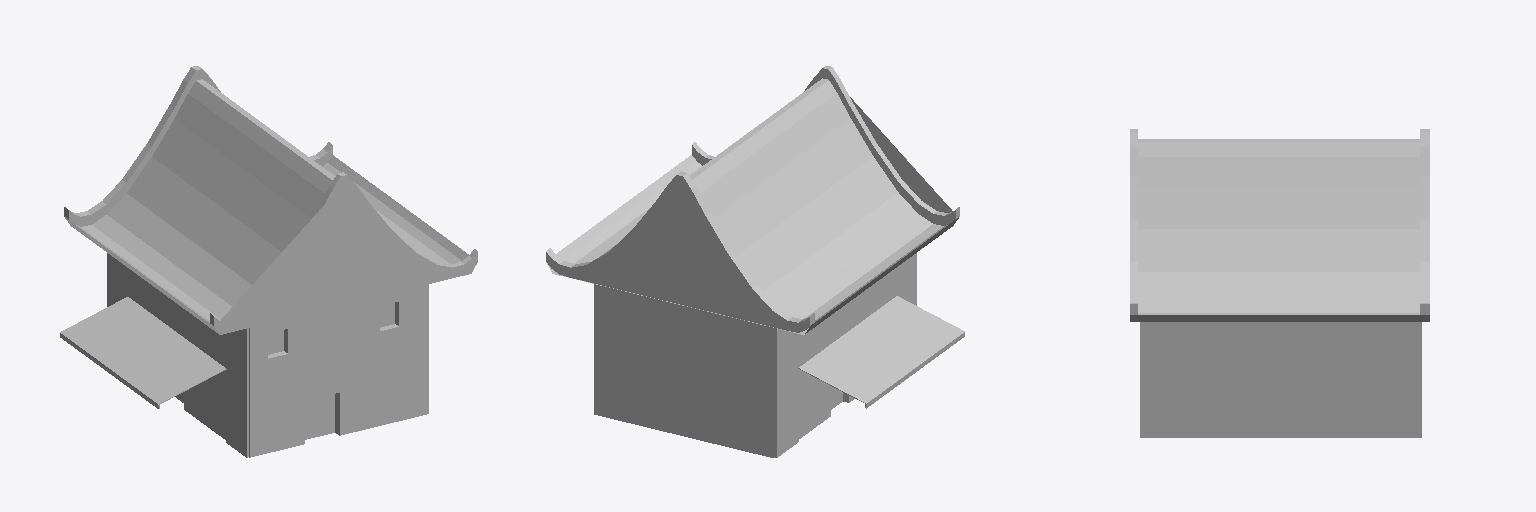
The model's file is haus3.obj.
The picture shows the model from 3 angles: view 1: azimuth 30°, elevation 25°; view 2: azimuth 150°, elevation 25°; view 3: azimuth 270°, elevation 25°; orthographic projection.
Visible parts, largest first — view 1: Arc002, Box001, Box004, Box003; view 2: Arc002, Box001, Box004, Box003; view 3: Arc002, Box001.
Boxes of the visible parts, x1,y1,x2,y2 form: Arc002: [64, 66, 477, 334]; Box001: [184, 284, 428, 457]; Box004: [60, 297, 226, 408]; Box003: [107, 253, 248, 457]; Arc002: [546, 66, 959, 334]; Box001: [594, 284, 854, 457]; Box004: [798, 296, 964, 408]; Box003: [774, 253, 916, 457]; Arc002: [1130, 129, 1429, 321]; Box001: [1140, 322, 1421, 437].
Bounding box in the file's own units: 830 × 709 × 729.